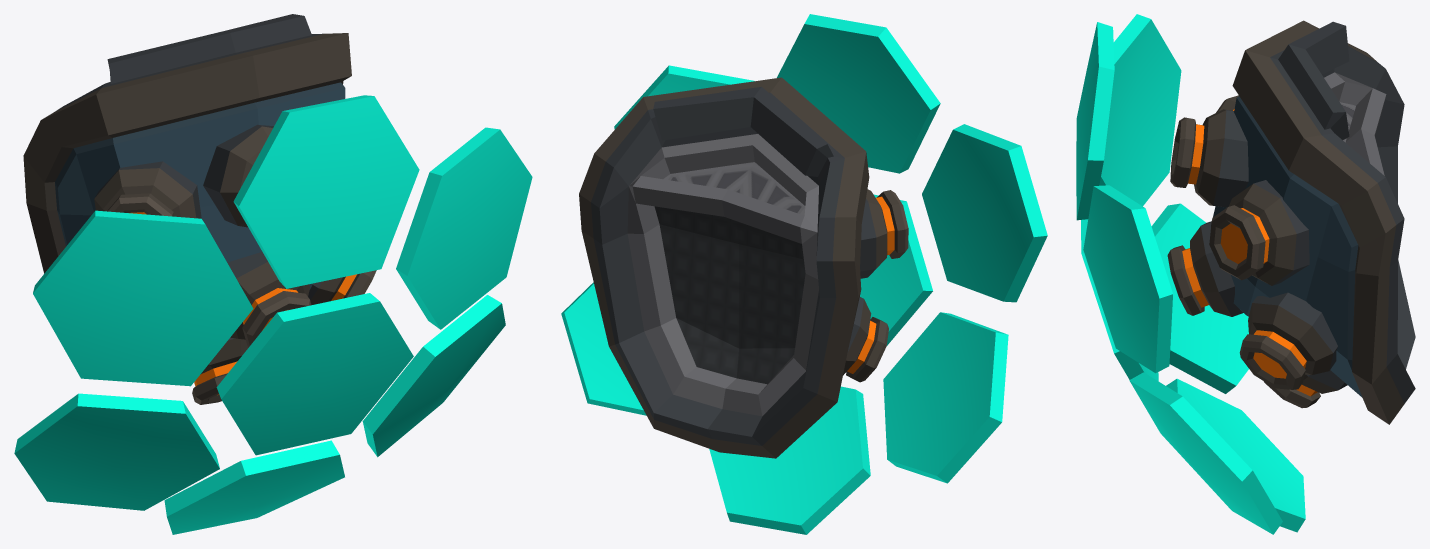
File: SM_Mech_Arm_01_Armor_Shoulder_06.fbx
The picture shows the model from 3 angles, left to right: view 1: azimuth 30°, elevation 25°; view 2: azimuth 150°, elevation 25°; view 3: azimuth 270°, elevation 25°; orthographic projection. The views are drawn at different scales.
Parts seen in each view (by area): view 1: SM_Mech_Arm_01_Armor_Shoulder_06_Shield, SM_Mech_Arm_01_Armor_Shoulder_06; view 2: SM_Mech_Arm_01_Armor_Shoulder_06, SM_Mech_Arm_01_Armor_Shoulder_06_Shield; view 3: SM_Mech_Arm_01_Armor_Shoulder_06, SM_Mech_Arm_01_Armor_Shoulder_06_Shield.
Boxes of the visible parts, x1=… form: SM_Mech_Arm_01_Armor_Shoulder_06_Shield: x1=14, y1=95, x2=532, y2=534; SM_Mech_Arm_01_Armor_Shoulder_06: x1=23, y1=14, x2=376, y2=404; SM_Mech_Arm_01_Armor_Shoulder_06: x1=579, y1=77, x2=908, y2=458; SM_Mech_Arm_01_Armor_Shoulder_06_Shield: x1=561, y1=14, x2=1047, y2=534; SM_Mech_Arm_01_Armor_Shoulder_06: x1=1167, y1=20, x2=1415, y2=424; SM_Mech_Arm_01_Armor_Shoulder_06_Shield: x1=1076, y1=14, x2=1305, y2=534.
Size of the model in its own units: 129 by 120 by 77.62.
